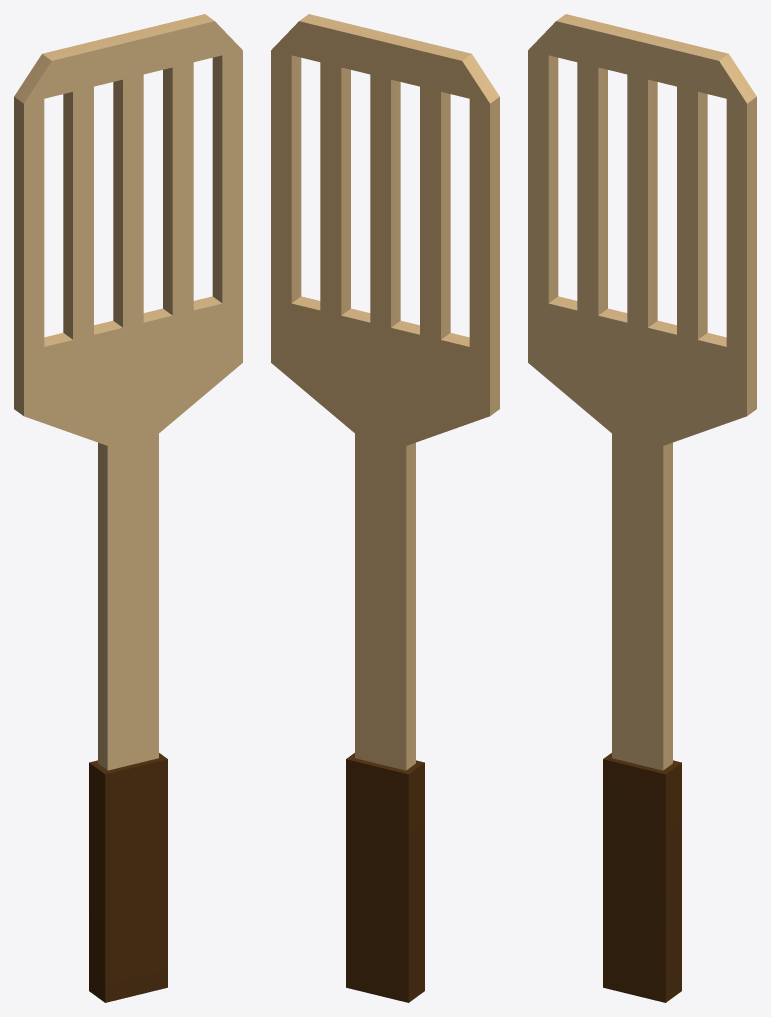
Rendered from Shovel_gob_cook.fbx.
The picture shows the model from 3 angles, left to right: view 1: azimuth 30°, elevation 25°; view 2: azimuth 150°, elevation 25°; view 3: azimuth 330°, elevation 25°; orthographic projection.
Visible parts, largest first — view 1: Object002; view 2: Object002; view 3: Object002.
Part boxes in pixels (box(x1,y1,x2,y2)): Object002: box(14, 14, 242, 1002); Object002: box(271, 14, 499, 1002); Object002: box(528, 14, 756, 1002).
Size of the model in its own units: 4.57 by 18.98 by 0.5889.
